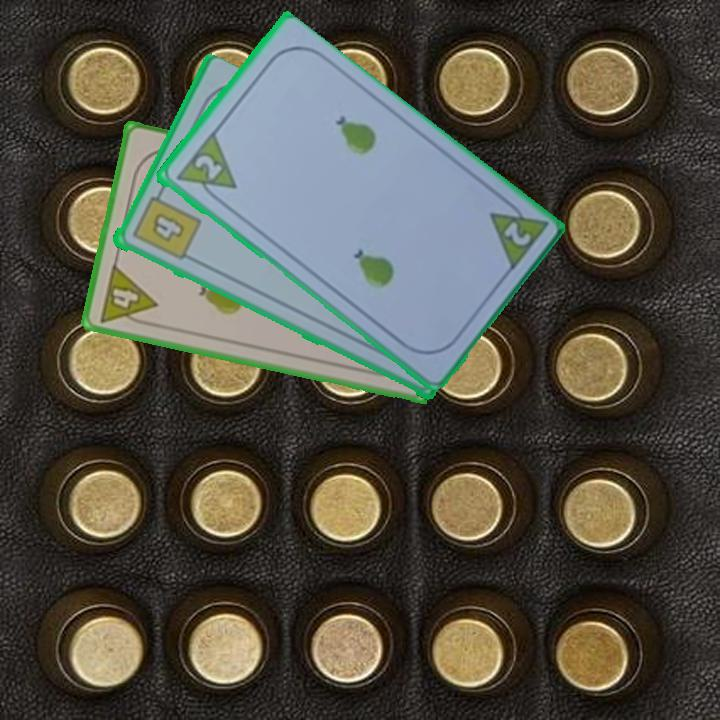2p: (171, 130, 240, 208), (499, 218, 534, 249)
4b: (128, 186, 203, 263)
4p: (95, 260, 160, 330)
